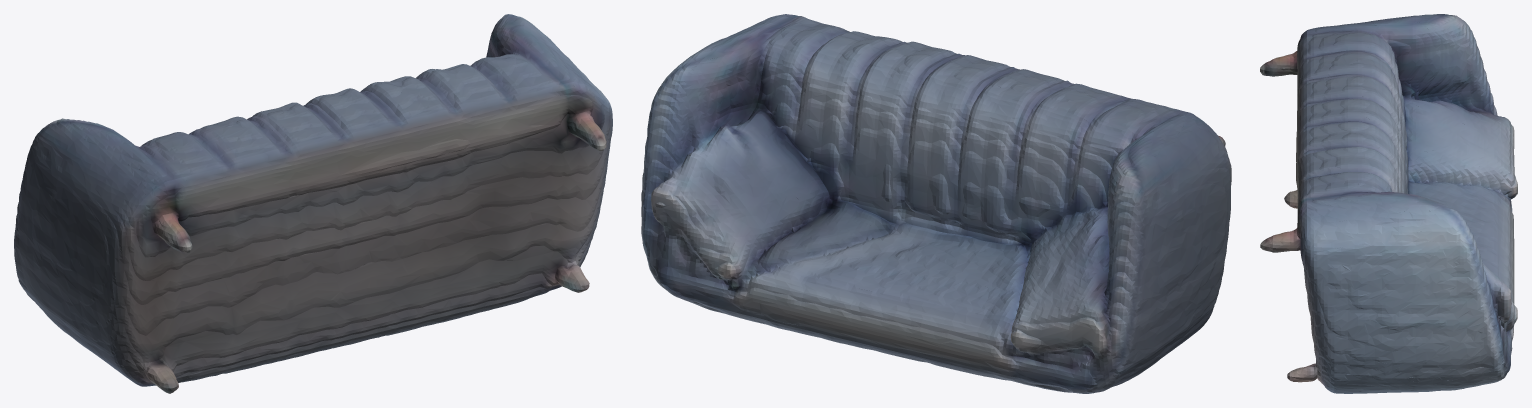
The model's file is faro-fabric-2-seater-sofa-blue.glb.
3 renders of one model, left to right at view 1: azimuth 30°, elevation 25°; view 2: azimuth 150°, elevation 25°; view 3: azimuth 270°, elevation 25°, orthographic. The views are drawn at different scales.
Visible parts, largest first — view 1: orient; view 2: orient; view 3: orient.
Part boxes in pixels (left/top/right/bottom): orient: left=14, top=14, right=612, bottom=393; orient: left=641, top=14, right=1231, bottom=393; orient: left=1260, top=14, right=1517, bottom=393.
Bounding box in the file's own units: 1.6 × 0.725 × 0.81.
